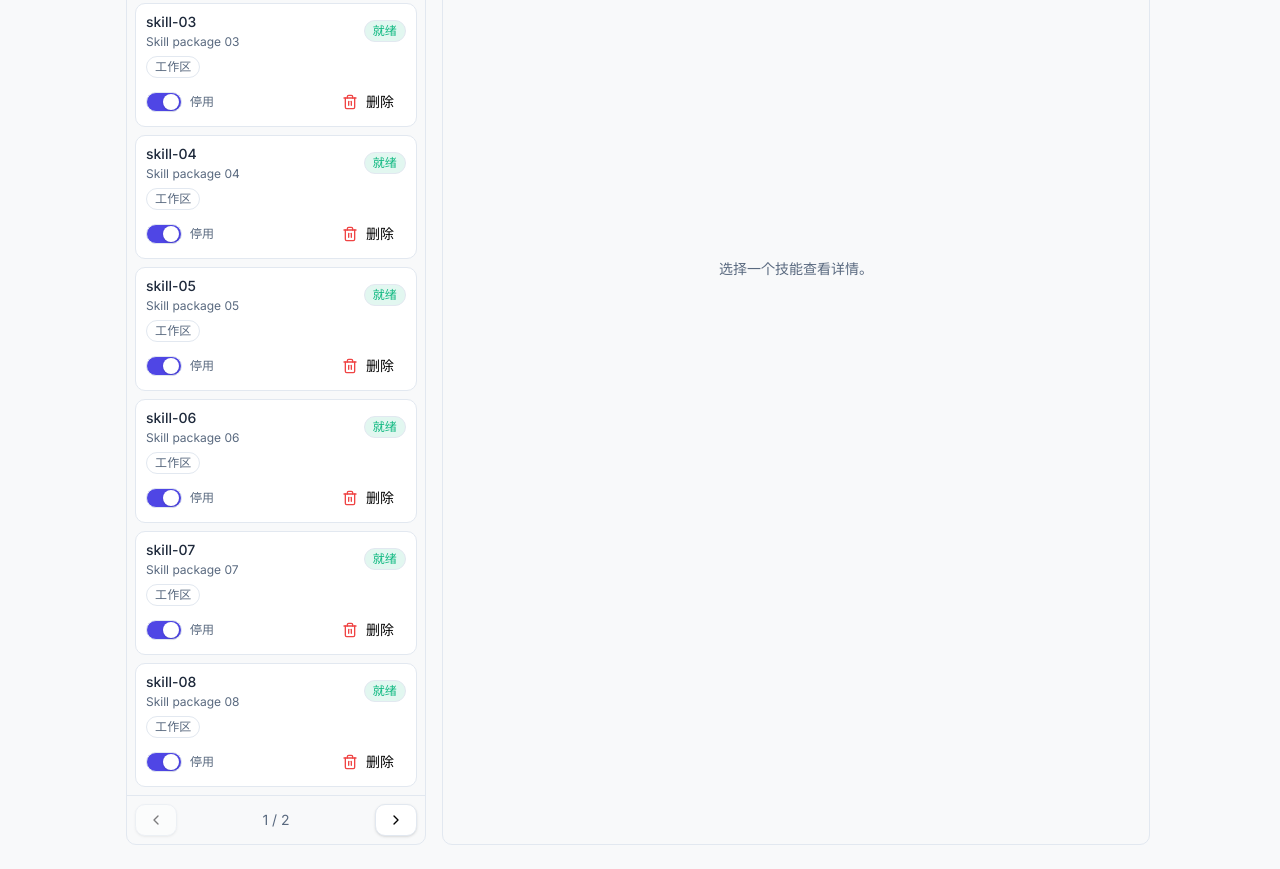
Test: SkillsPage › paginates the skill list
(page scrolled)
Expected: the button "Skill package 09" is not shown
What coordinates should you click on to do the following:
click the button named "下一页"
I would click on:
 (396, 820)
Its box is [375,804,417,836].
(page scrolled)
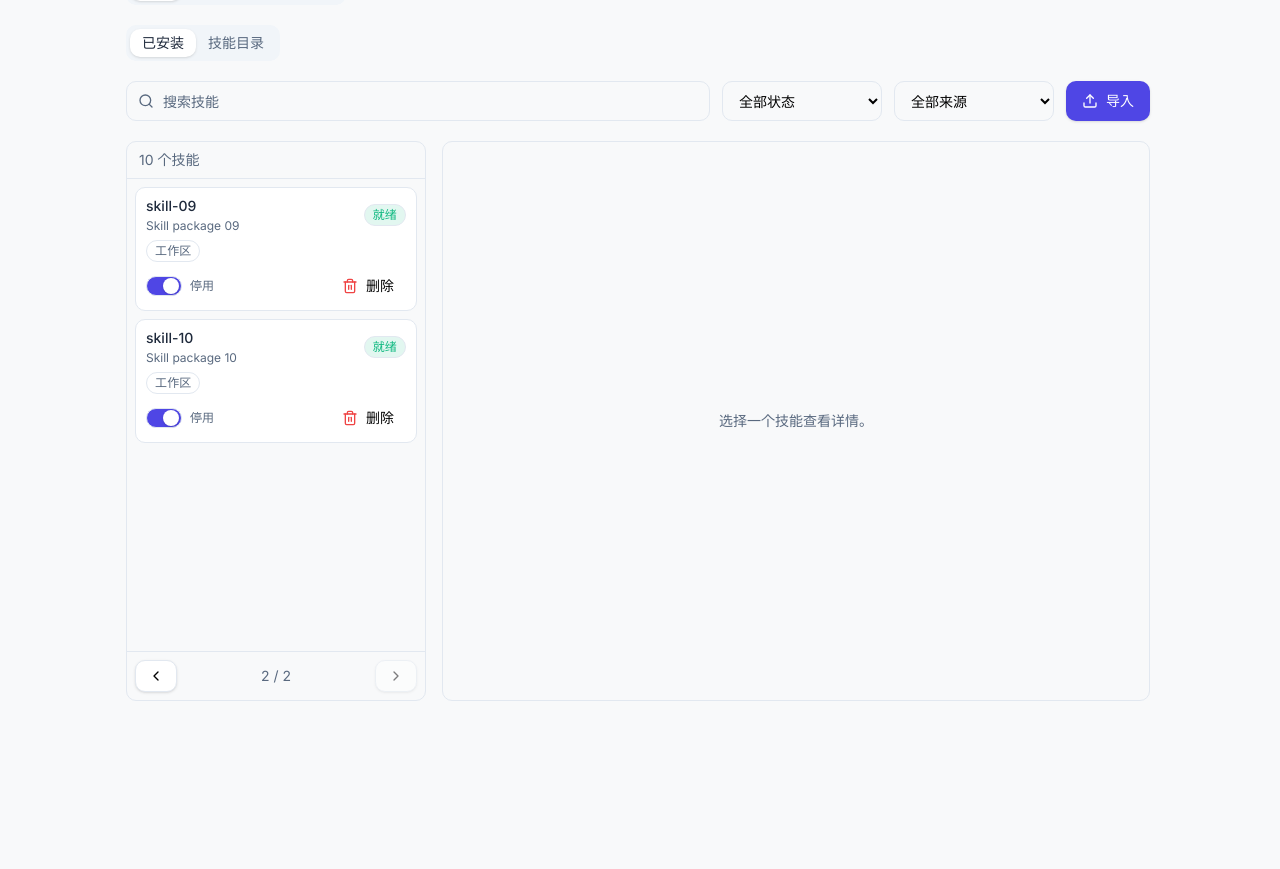
Expected: the button "skill-09 Skill package 09 就绪 工作区" is shown, [146,196,406,262]
Expected: the text "2 / 2" is shown, [261,666,291,686]
